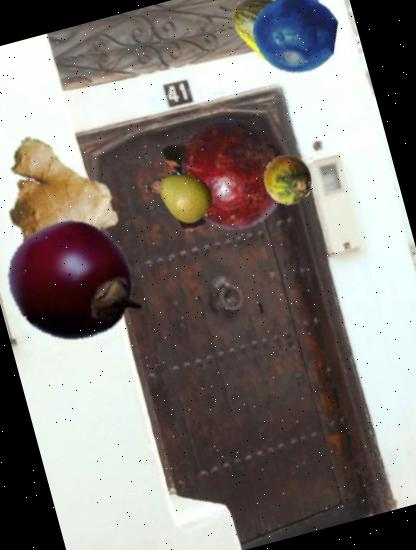Cactus: (258, 148, 320, 210)
Ginger: (0, 114, 139, 277)
Huckleberry: (244, 0, 347, 84)
Mangostan: (130, 93, 301, 264)
Melon: (219, 0, 327, 84)
Pear: (150, 162, 219, 232)
Tamarillo: (0, 202, 155, 365)
